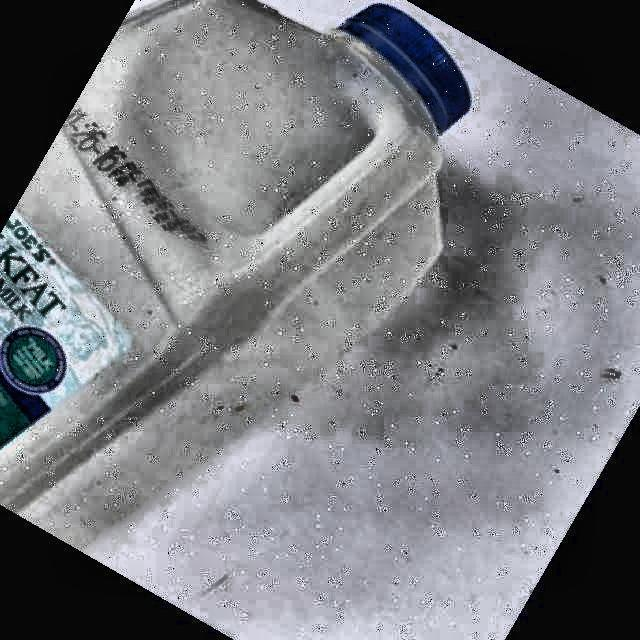plastic: (0, 0, 470, 546)
